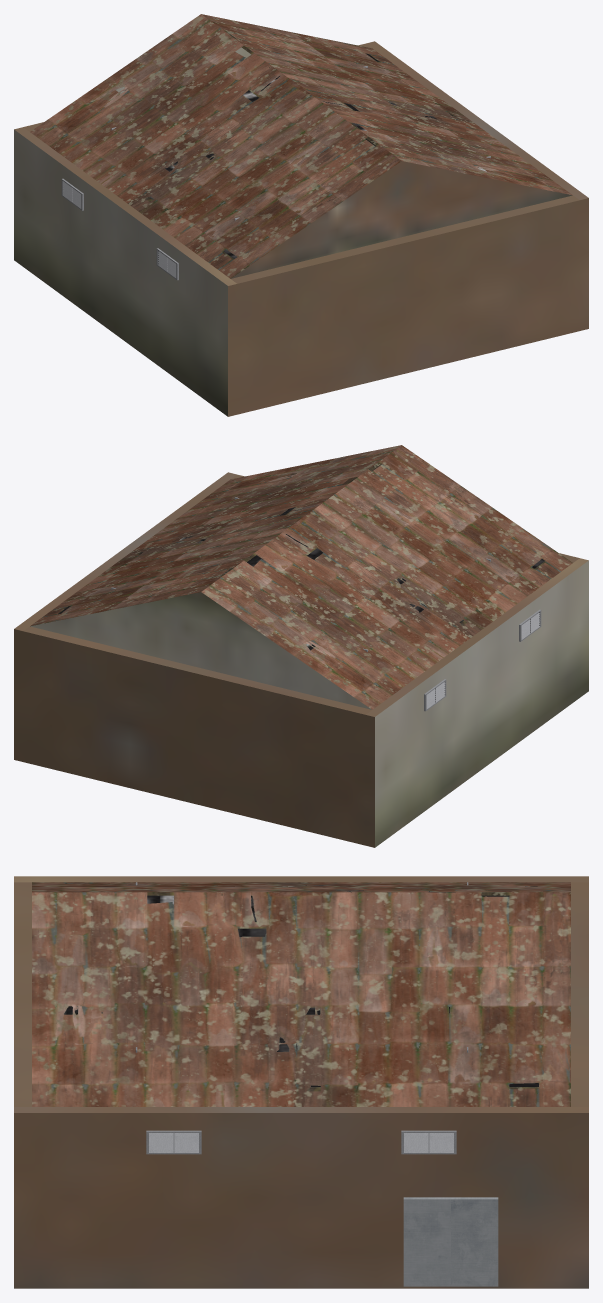
Rendered from arcaderoom.fbx.
3 views of the same model, one above another, from view 1: azimuth 30°, elevation 25°; view 2: azimuth 150°, elevation 25°; view 3: azimuth 270°, elevation 25° (orthographic). The views are drawn at different scales.
Parts seen in each view (by area): view 1: Wall, Roof; view 2: Wall, Roof; view 3: Roof, Wall, DoorL, DoorR, Vent, Vent.001.
Part boxes in pixels (bbox=[...]): Wall: bbox=[14, 41, 588, 416]; Roof: bbox=[30, 14, 572, 278]; Wall: bbox=[14, 472, 588, 847]; Roof: bbox=[30, 445, 572, 709]; Roof: bbox=[32, 882, 570, 1106]; Wall: bbox=[14, 876, 588, 1288]; DoorL: bbox=[451, 1197, 498, 1286]; DoorR: bbox=[403, 1197, 450, 1286]; Vent: bbox=[401, 1130, 456, 1154]; Vent.001: bbox=[146, 1130, 201, 1154].
Bounding box in the file's own units: 59920 × 32433 × 60800.
